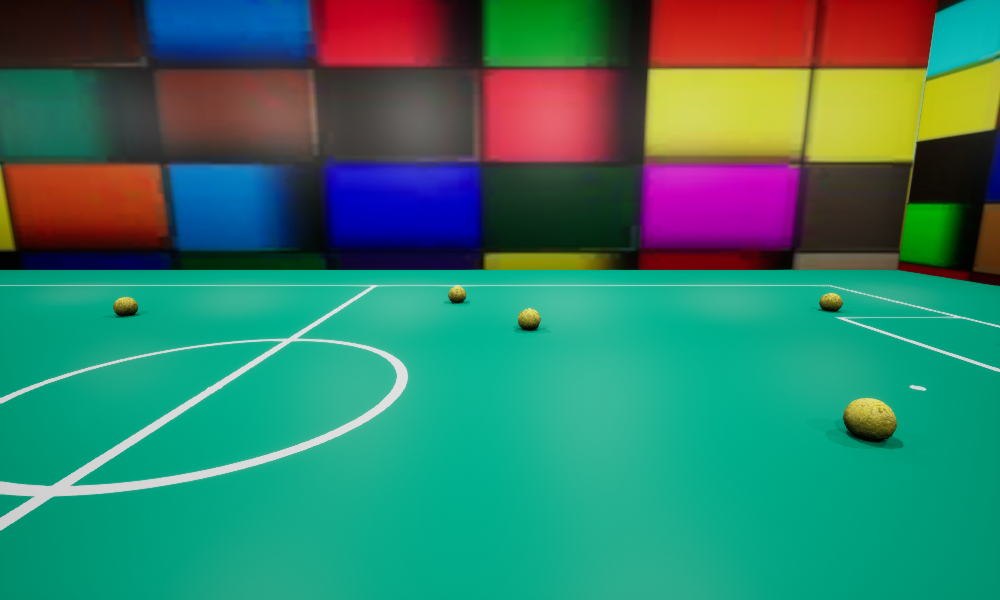b: (843, 398, 896, 441), (518, 308, 540, 329), (113, 297, 137, 315), (819, 293, 842, 311), (448, 286, 465, 302)
